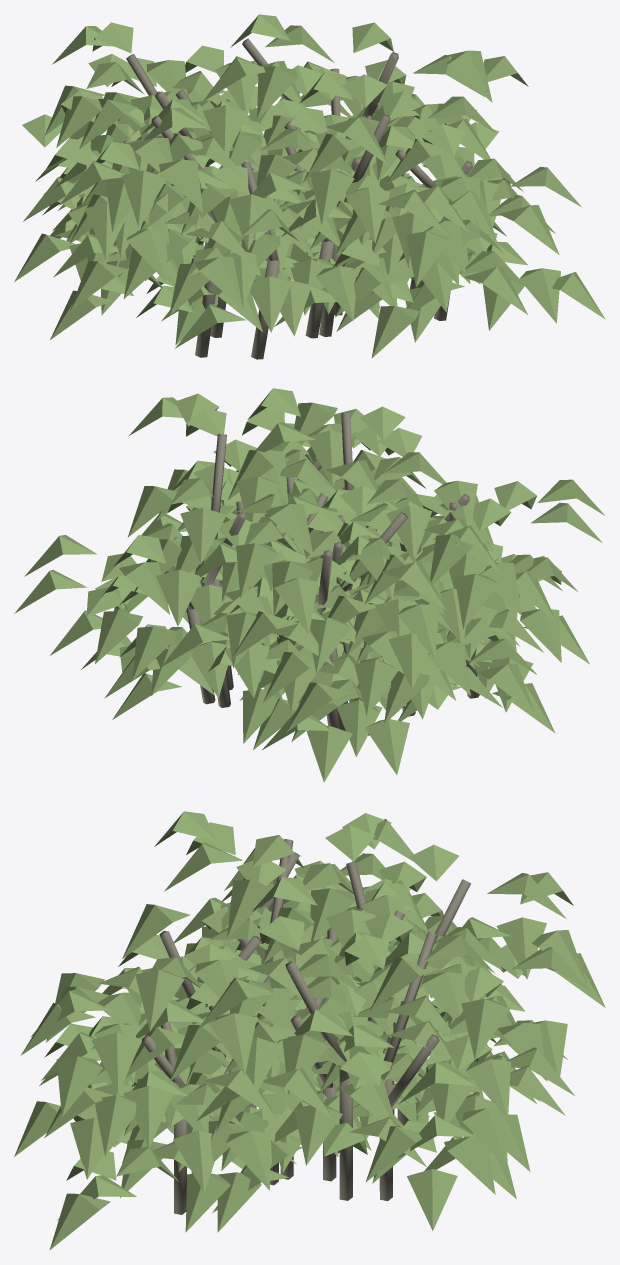
File: dongpo-small-pot.glb
3 renders of one model, top to bottom at view 1: azimuth 30°, elevation 25°; view 2: azimuth 150°, elevation 25°; view 3: azimuth 270°, elevation 25°, orthographic. The views are drawn at different scales.
Parts seen in each view (by area): view 1: dongpo-small-pot; view 2: dongpo-small-pot; view 3: dongpo-small-pot.
Part boxes in pixels (left/top/right/bottom): dongpo-small-pot: left=14, top=14, right=605, bottom=359; dongpo-small-pot: left=14, top=388, right=604, bottom=782; dongpo-small-pot: left=14, top=811, right=605, bottom=1249.
Size of the model in its own units: 1.38 by 0.6806 by 1.39.
